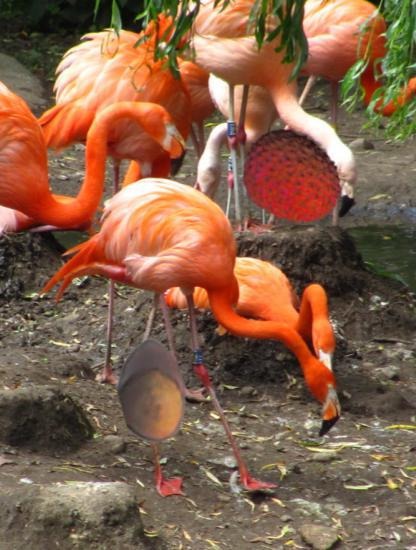Hazelnut: (101, 338, 207, 444)
Lychee: (235, 124, 345, 234)
